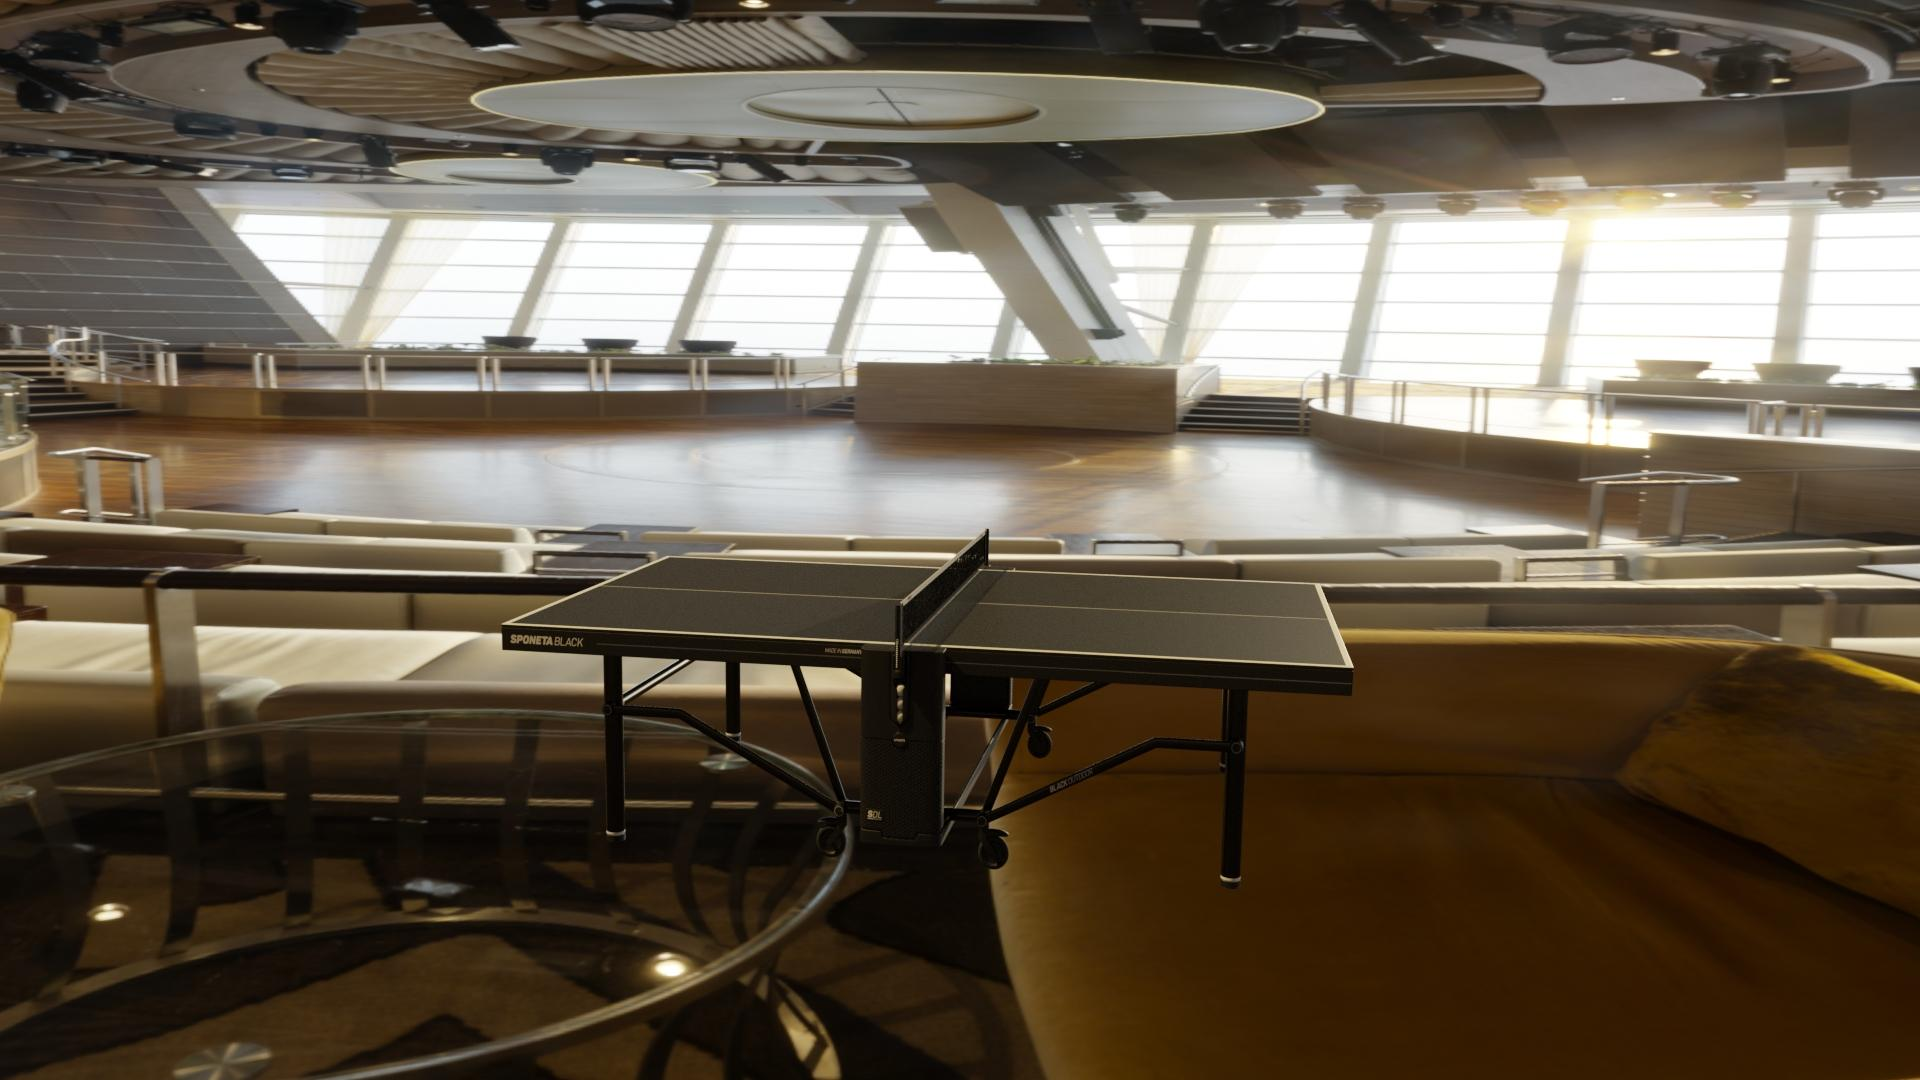table: (510, 556, 1346, 666)
